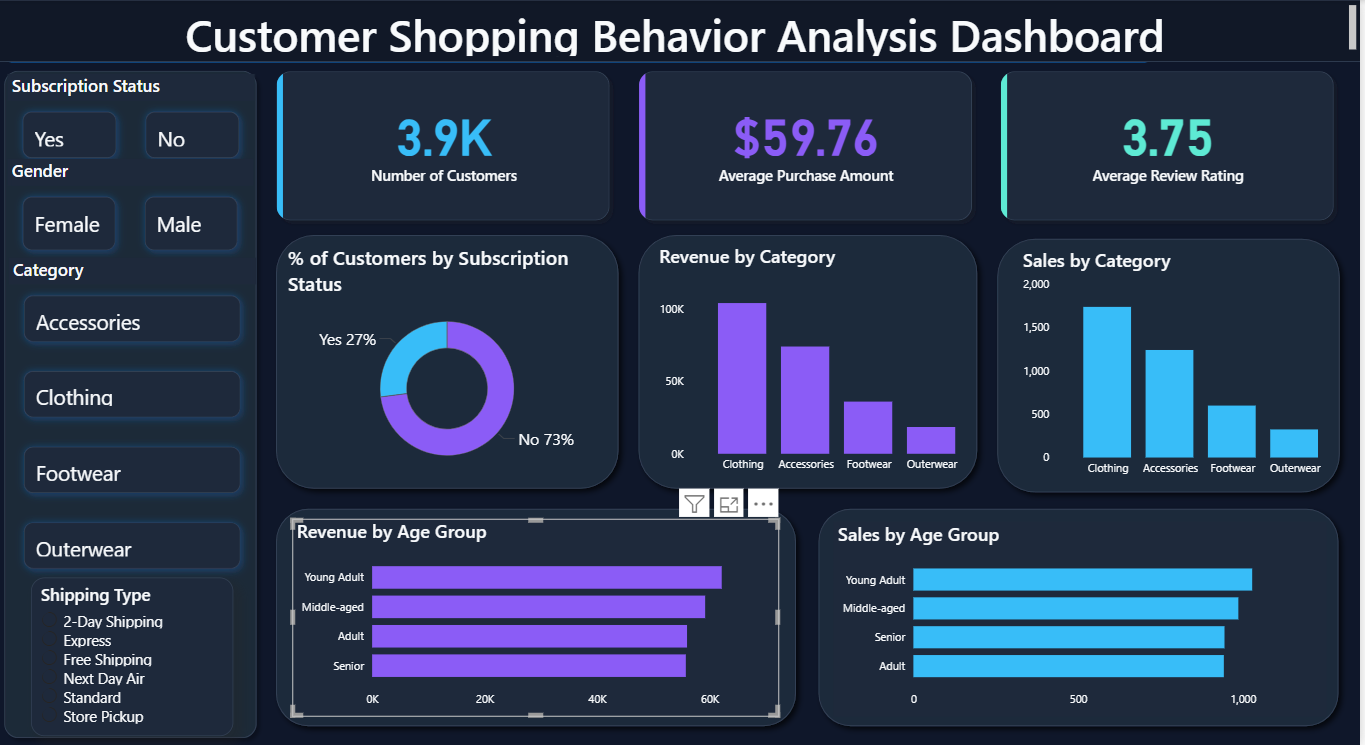

This screenshot's page, from the dashboard's own definition file:
{"tool":"powerbi","page":{"name":"Page 1","canvas":[1500,820],"ordinal":0},"visuals":[{"type":"shape","box":[0,0,1280,68.6],"z":0},{"type":"textbox","box":[0,0,1501.1,68],"z":1000},{"type":"shape","box":[296.8,247.3,398.5,300.9],"z":2000},{"type":"cardVisual","fields":{"Data":["public customer.Number of Customers","public customer.Average Purchase Amount","public customer.Average Review Rating"]},"box":[284.4,34.4,1216,237.7],"z":3000},{"type":"donutChart","title":"% of Customers by Subscription Status","fields":{"Category":["public customer.subscription_status"],"Y":["CountNonNull(public customer.customer_id)"]},"box":[316,267.9,360,261.1],"z":4000},{"type":"shape","box":[695.2,247.3,394.3,300.9],"z":5000},{"type":"shape","box":[1089.6,251.4,398.5,300.9],"z":6000},{"type":"clusteredColumnChart","title":"Revenue by Category","fields":{"Y":["Sum(public customer.purchase_amount)"],"Category":["public customer.category"]},"box":[724.1,267.9,365.5,261.1],"z":7000},{"type":"clusteredColumnChart","title":"Sales by Category","fields":{"Y":["CountNonNull(public customer.customer_id)"],"Category":["public customer.category"]},"box":[1123.9,272.1,364.1,261.1],"z":8000},{"type":"shape","box":[0,68.7,295.4,751.6],"z":9000},{"type":"advancedSlicerVisual","title":"Subscription Status","fields":{"Values":["public customer.subscription_status"]},"box":[12.4,81.1,272.1,109.9],"z":10000},{"type":"advancedSlicerVisual","title":"Gender","fields":{"Values":["public customer.gender"]},"box":[12.4,174.5,270.7,118.2],"z":11000},{"type":"advancedSlicerVisual","title":"Category","fields":{"Values":["public customer.category"]},"box":[13.7,283,272.1,361.4],"z":12000},{"type":"listSlicer","title":"Shipping Type","fields":{"Values":["public customer.shipping_type"]},"box":[38.5,634.8,222.6,174.5],"z":13000},{"type":"shape","box":[296.8,548.2,593.6,261.1],"z":14000},{"type":"shape","box":[893.1,548.2,593.6,261.1],"z":15000},{"type":"clusteredBarChart","title":"Revenue by Age Group","fields":{"Y":["Sum(public customer.purchase_amount)"],"Category":["public customer.age_group"]},"box":[325.6,570.2,535.9,217.1],"z":16000},{"type":"clusteredBarChart","title":"Sales by Age Group","fields":{"Y":["CountNonNull(public customer.customer_id)"],"Category":["public customer.age_group"]},"box":[920.6,573,542.7,214.3],"z":17000}]}

Visuals, with their boxes in screenshot pixels (x1, y1, x2, y2), scaled from the page's 1500x820 canvas onto the 1365x745 screenshot:
shape: [left=0, top=0, right=1165, bottom=62]
textbox: [left=0, top=0, right=1364, bottom=62]
shape: [left=270, top=225, right=633, bottom=498]
cardVisual - public customer.Number of Customers x public customer.Average Purchase Amount: [left=259, top=31, right=1364, bottom=247]
"% of Customers by Subscription Status" donutChart: [left=288, top=243, right=615, bottom=481]
shape: [left=633, top=225, right=991, bottom=498]
shape: [left=992, top=228, right=1354, bottom=502]
"Revenue by Category" clusteredColumnChart: [left=659, top=243, right=992, bottom=481]
"Sales by Category" clusteredColumnChart: [left=1023, top=247, right=1354, bottom=484]
shape: [left=0, top=62, right=269, bottom=744]
"Subscription Status" advancedSlicerVisual: [left=11, top=74, right=259, bottom=174]
"Gender" advancedSlicerVisual: [left=11, top=159, right=258, bottom=266]
"Category" advancedSlicerVisual: [left=12, top=257, right=260, bottom=585]
"Shipping Type" listSlicer: [left=35, top=577, right=238, bottom=735]
shape: [left=270, top=498, right=810, bottom=735]
shape: [left=813, top=498, right=1353, bottom=735]
"Revenue by Age Group" clusteredBarChart: [left=296, top=518, right=784, bottom=715]
"Sales by Age Group" clusteredBarChart: [left=838, top=521, right=1332, bottom=715]
